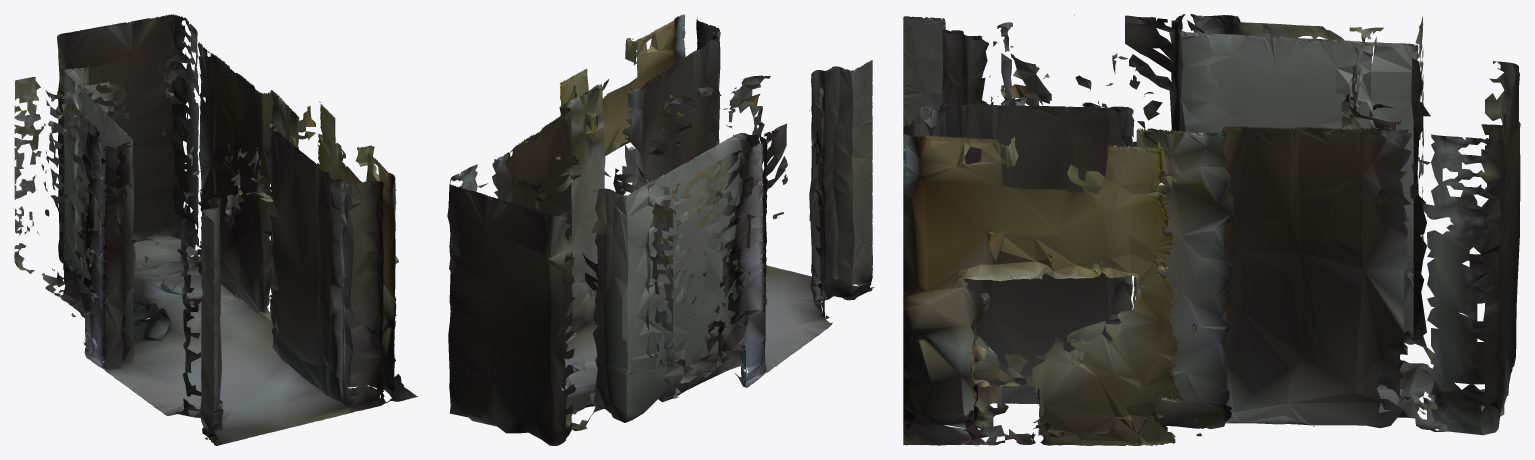
File: coarse.glb
The picture shows the model from 3 angles, left to right: view 1: azimuth 30°, elevation 25°; view 2: azimuth 150°, elevation 25°; view 3: azimuth 270°, elevation 25°; orthographic projection. The views are drawn at different scales.
Size of the model in its own units: 1.46 by 1.52 by 2.83.
